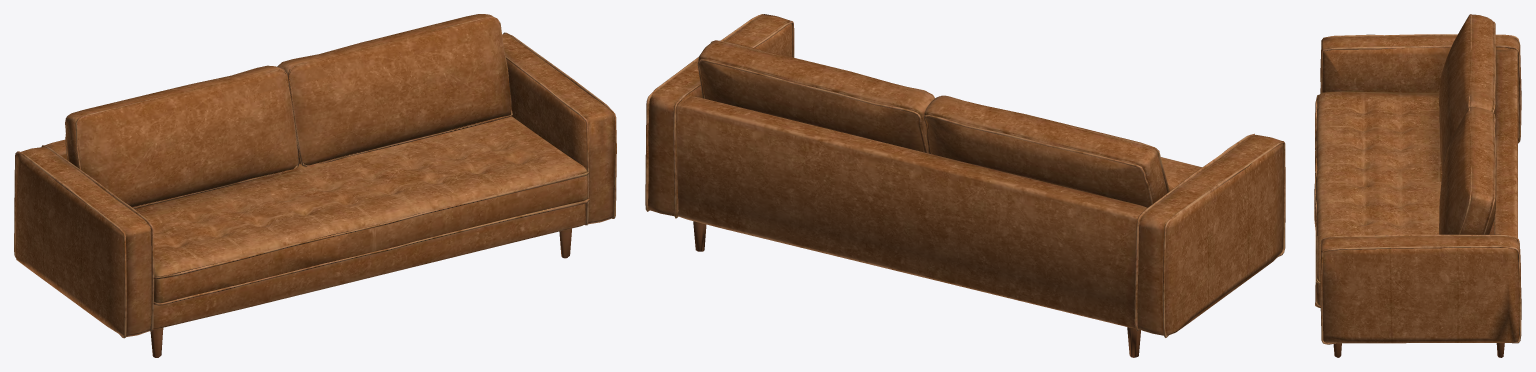
The model's file is abo-B075X2WN11.glb.
3 views of the same model, side by side, from view 1: azimuth 30°, elevation 25°; view 2: azimuth 150°, elevation 25°; view 3: azimuth 270°, elevation 25° (orthographic). The views are drawn at different scales.
Visible parts, largest first — view 1: RootNode; view 2: RootNode; view 3: RootNode.
Part boxes in pixels (x1=…): RootNode: x1=14, y1=14, x2=616, y2=357; RootNode: x1=645, y1=14, x2=1285, y2=357; RootNode: x1=1314, y1=14, x2=1521, y2=357.
Size of the model in its own units: 2.2 by 0.7787 by 0.8858.
1 material, 1 textured.
